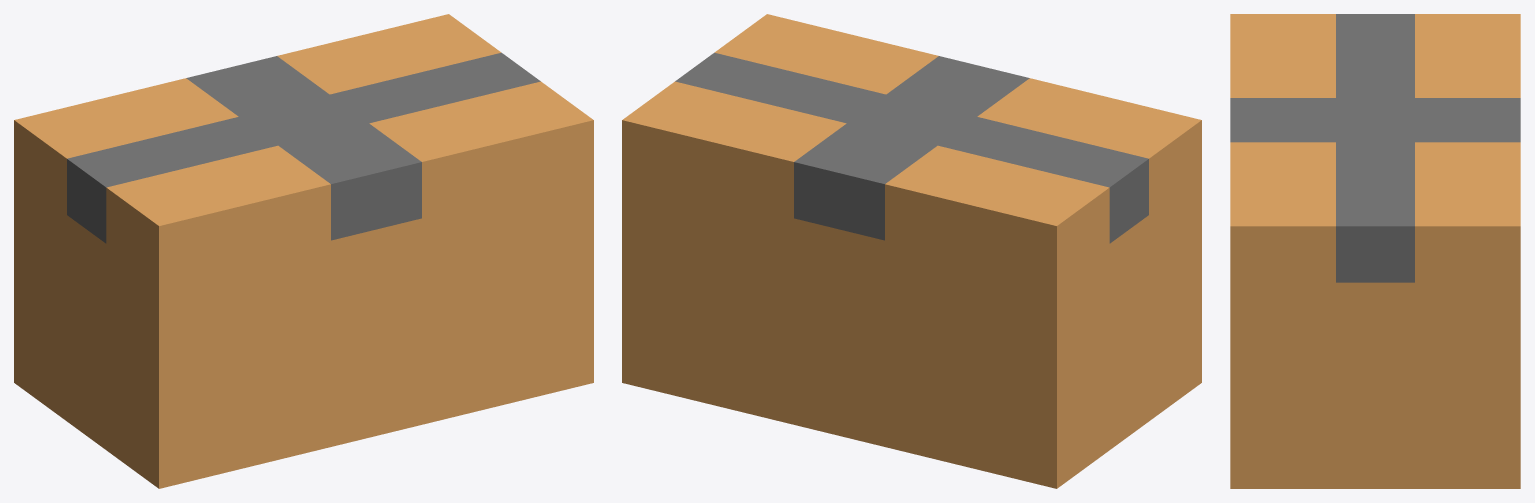
File: carton3.fbx
The picture shows the model from 3 angles, left to right: view 1: azimuth 30°, elevation 25°; view 2: azimuth 150°, elevation 25°; view 3: azimuth 270°, elevation 25°; orthographic projection.
Visible parts, largest first — view 1: Cube.015; view 2: Cube.015; view 3: Cube.015.
Boxes of the visible parts, x1,y1,x2,y2 form: Cube.015: [14, 14, 593, 488]; Cube.015: [622, 14, 1201, 488]; Cube.015: [1230, 14, 1520, 488].
Size of the model in its own units: 571 by 330 by 330.
Materials: 1 (1 with a texture image).
